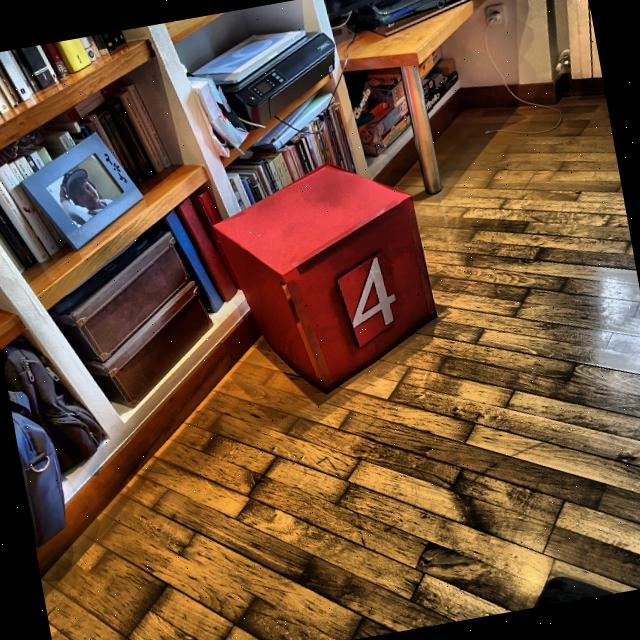four: (341, 254, 398, 330)
red box: (205, 146, 450, 409)
